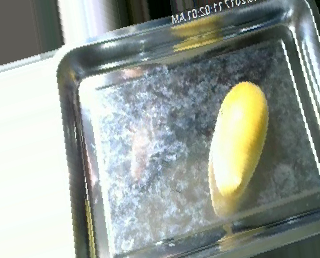Mango: (210, 81, 268, 200)
